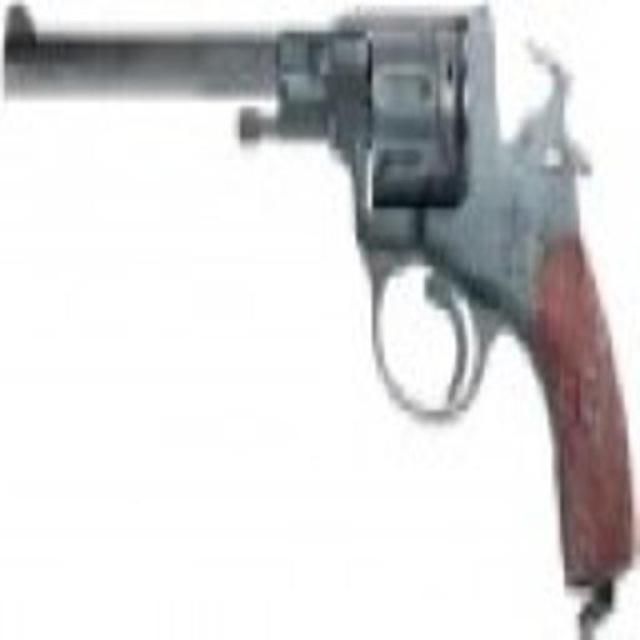pistol: (7, 5, 615, 575)
